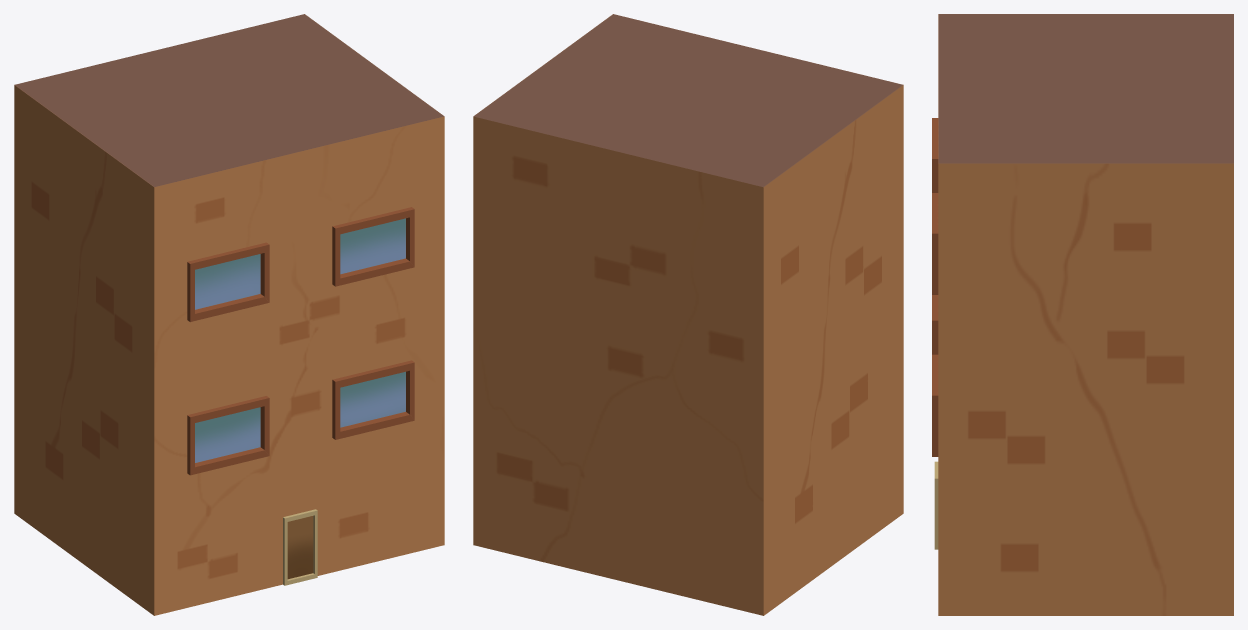
The model's file is Bulid1.fbx.
3 renders of one model, left to right at view 1: azimuth 30°, elevation 25°; view 2: azimuth 150°, elevation 25°; view 3: azimuth 270°, elevation 25°, orthographic. The views are drawn at different scales.
Parts seen in each view (by area): view 1: Cube; view 2: Cube; view 3: Cube.
Boxes of the visible parts, left/top/right/bottom form: Cube: left=14, top=14, right=444, bottom=615; Cube: left=473, top=14, right=903, bottom=615; Cube: left=932, top=14, right=1233, bottom=615.
Bounding box in the file's own units: 826 × 1164 × 704.
1 material, 1 textured.
